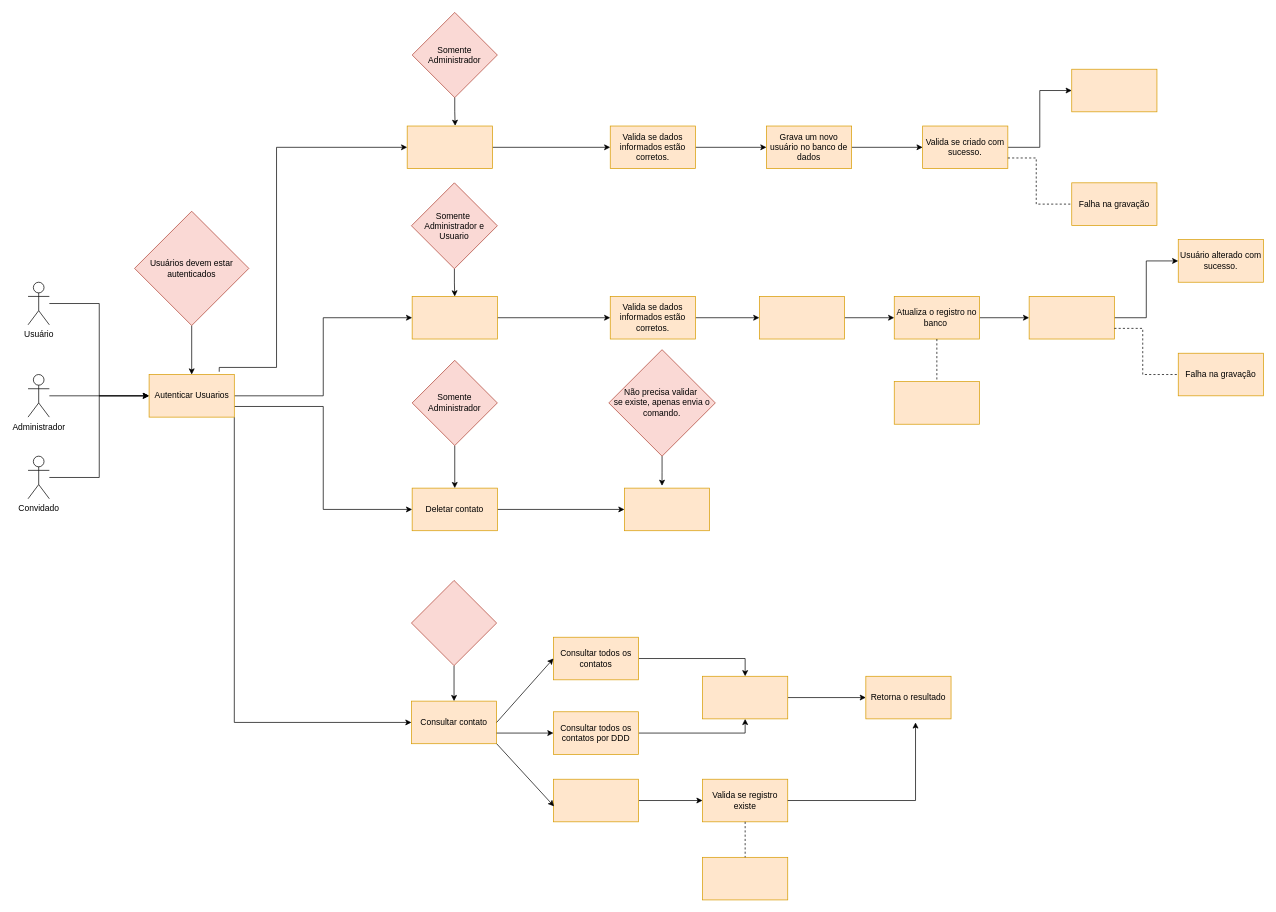
This 1276x912 diagram has some shape labels left out. Each missing label, with the box of its shape:
Atualizar contato: (411, 296, 497, 339)
Consulta se o usuário existe: (759, 296, 845, 339)
Consultar todos os contatos por Id: (553, 779, 639, 822)
Criar novo contato: (406, 125, 492, 169)
Deleta registro no banco de dados: (624, 487, 710, 531)
Retorna mensagem contato não encontrado: (894, 381, 979, 424)
Retorna resultado Nulo: (702, 857, 788, 900)
Todos os perfis Autenticados: (411, 580, 497, 666)
Trata o dado para retornar: (702, 676, 788, 719)
Usuário criado com sucesso.: (1071, 69, 1157, 112)
Valida se alterado com sucesso.: (1028, 296, 1114, 339)
